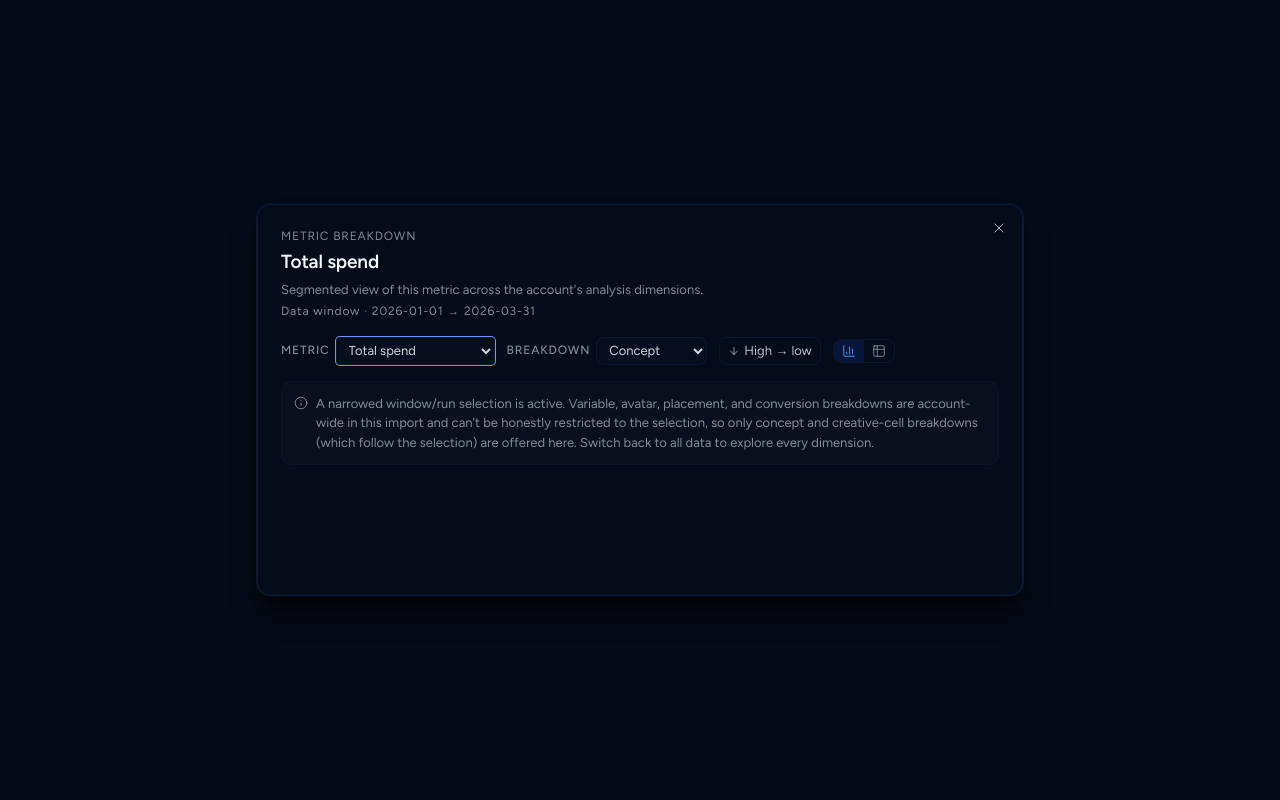
Test: KpiDrilldownModal · account scope › narrowed scope withholds account-wide dimensions. Only scoped-capable breakdowns remain
The width and height of the screenshot is (1280, 800).
Expected: the text with test id "scoped-dimensions-note" is shown, [316,396,978,450]
# And rows come only from the scoped cell rows — out-of-scope totals never surface.
Select "Creative cell" in the dropdown labelled "Breakdown" at (652, 351), box [596,337,707,365]
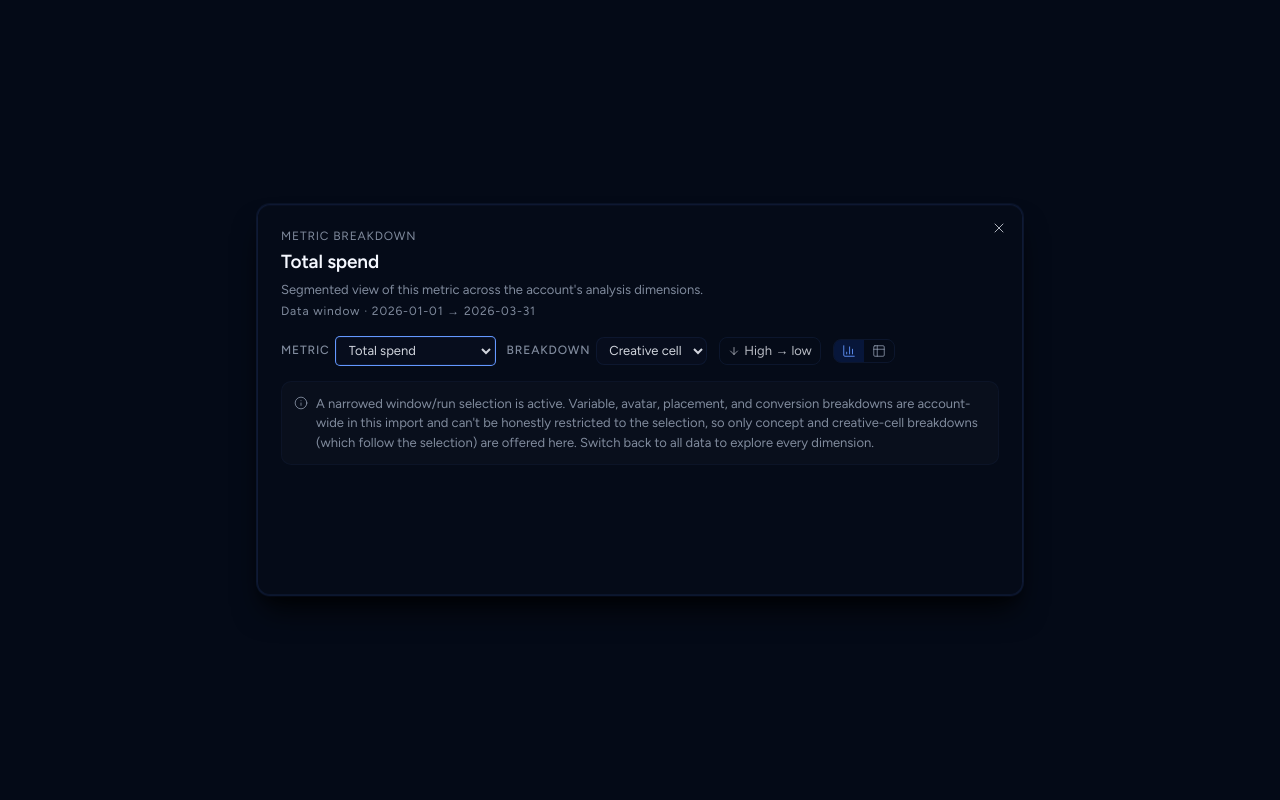
Click the button named "Table view" at (879, 351), box [864,340,894,362]
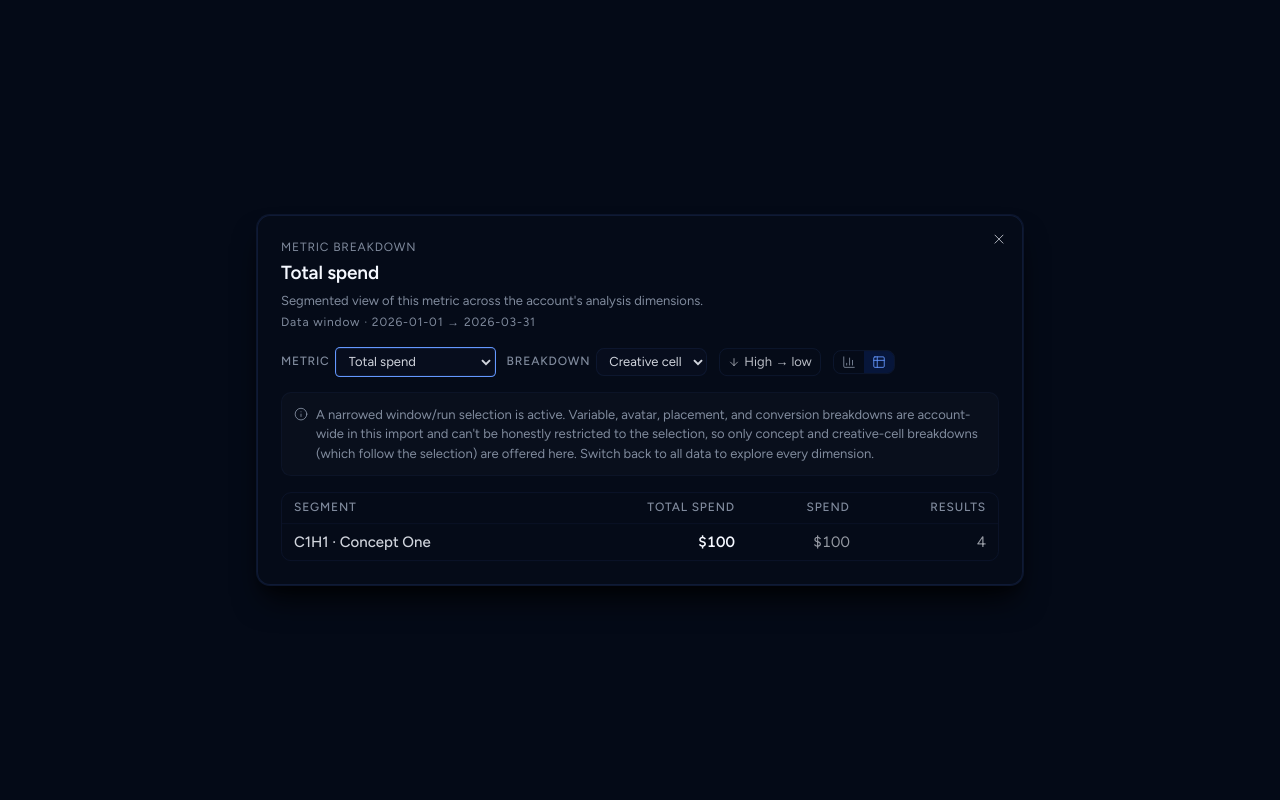
Expected: the element with test id "kpi-drilldown-table" shows "C1H1", [294,533,431,551]
